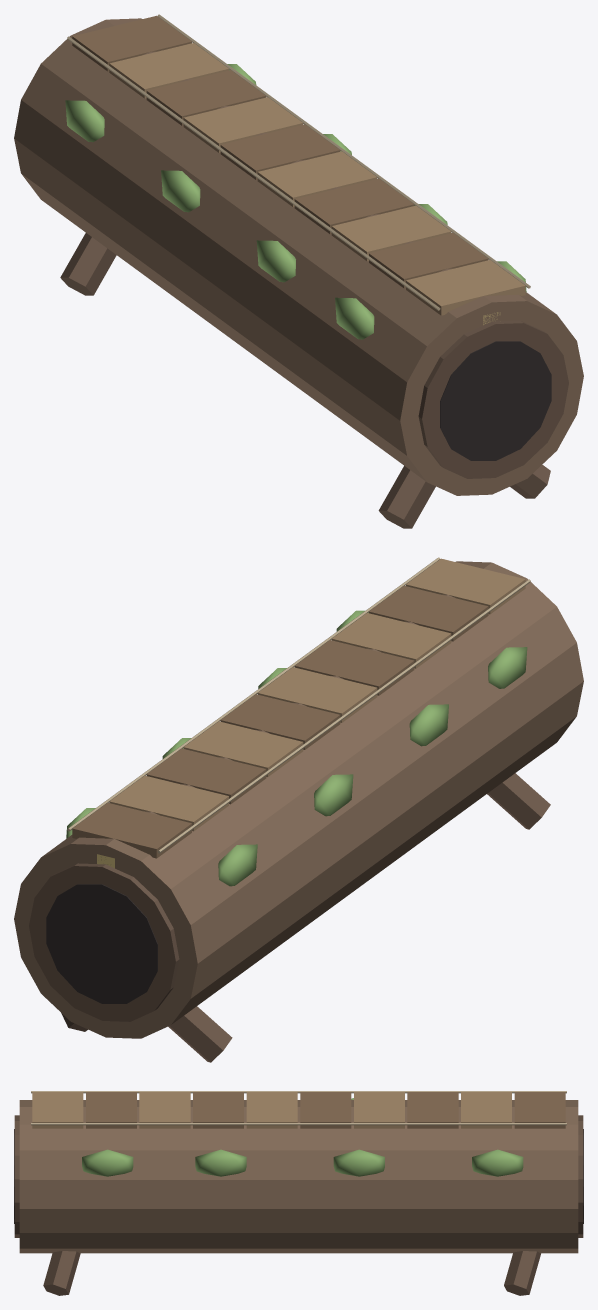
Rendered from rn2-floresta-truck.glb.
3 renders of one model, top to bottom at view 1: azimuth 30°, elevation 25°; view 2: azimuth 150°, elevation 25°; view 3: azimuth 270°, elevation 25°, orthographic. The views are drawn at different scales.
Visible parts, largest first — view 1: rn2_floresta_truck_body; view 2: rn2_floresta_truck_body; view 3: rn2_floresta_truck_body.
Boxes of the visible parts, x1,y1,x2,y2 form: rn2_floresta_truck_body: (14, 14, 583, 528); rn2_floresta_truck_body: (14, 557, 583, 1062); rn2_floresta_truck_body: (14, 1091, 583, 1295).
Bounding box in the file's own units: 2.44 × 2.93 × 9.06.
